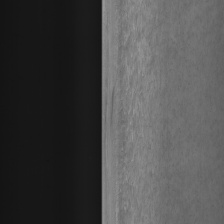silk_spot: (114, 8, 165, 217)
